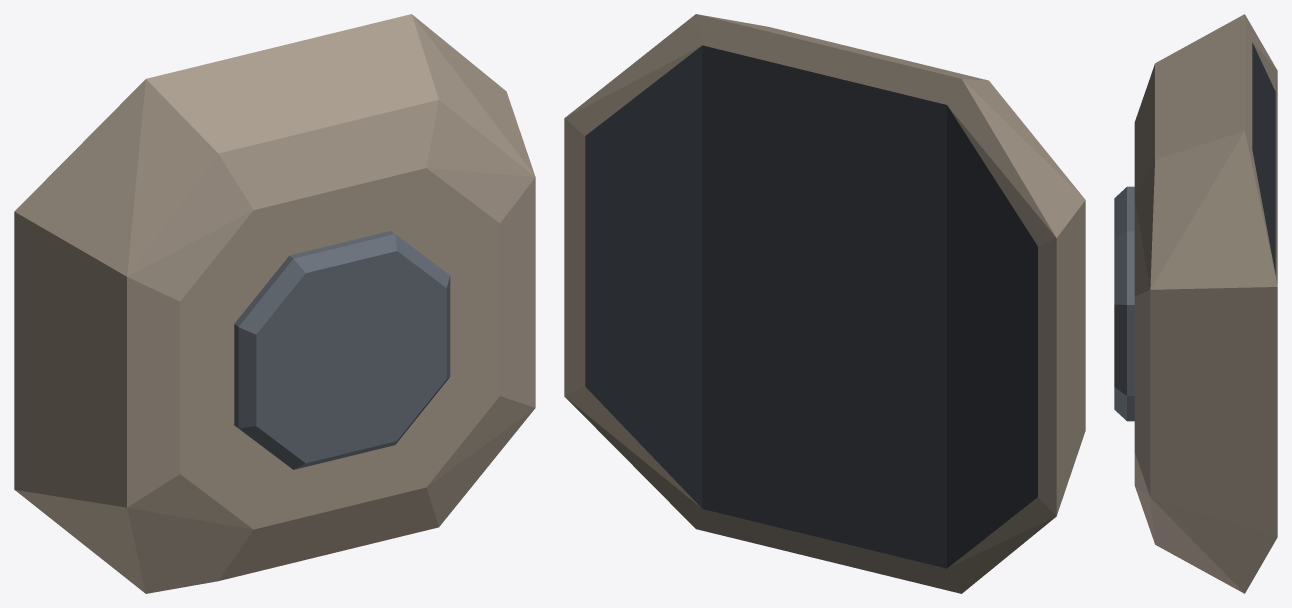
The model's file is knee_medium.glb.
The picture shows the model from 3 angles, left to right: view 1: azimuth 30°, elevation 25°; view 2: azimuth 150°, elevation 25°; view 3: azimuth 270°, elevation 25°; orthographic projection. The views are drawn at different scales.
Parts seen in each view (by area): view 1: knee_medium; view 2: knee_medium; view 3: knee_medium.
Boxes of the visible parts, x1,y1,x2,y2 form: knee_medium: [14, 14, 535, 593]; knee_medium: [564, 14, 1085, 593]; knee_medium: [1114, 14, 1277, 593].
Size of the model in its own units: 1 by 1 by 0.32.
